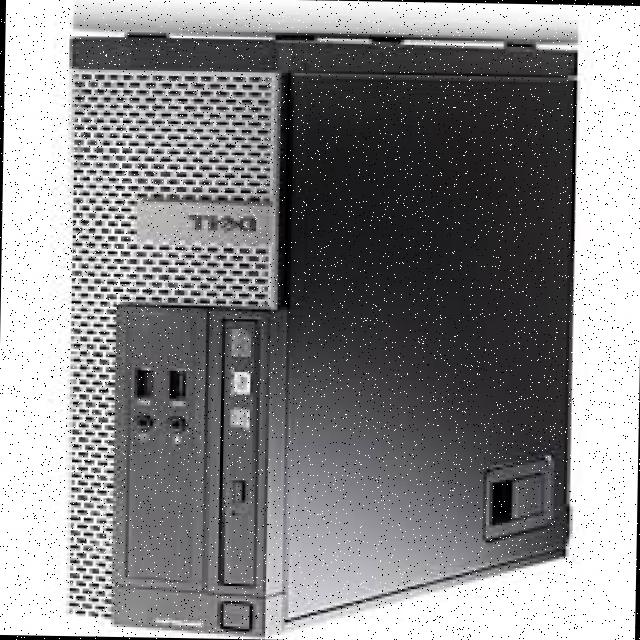Computer: (49, 10, 613, 640)
